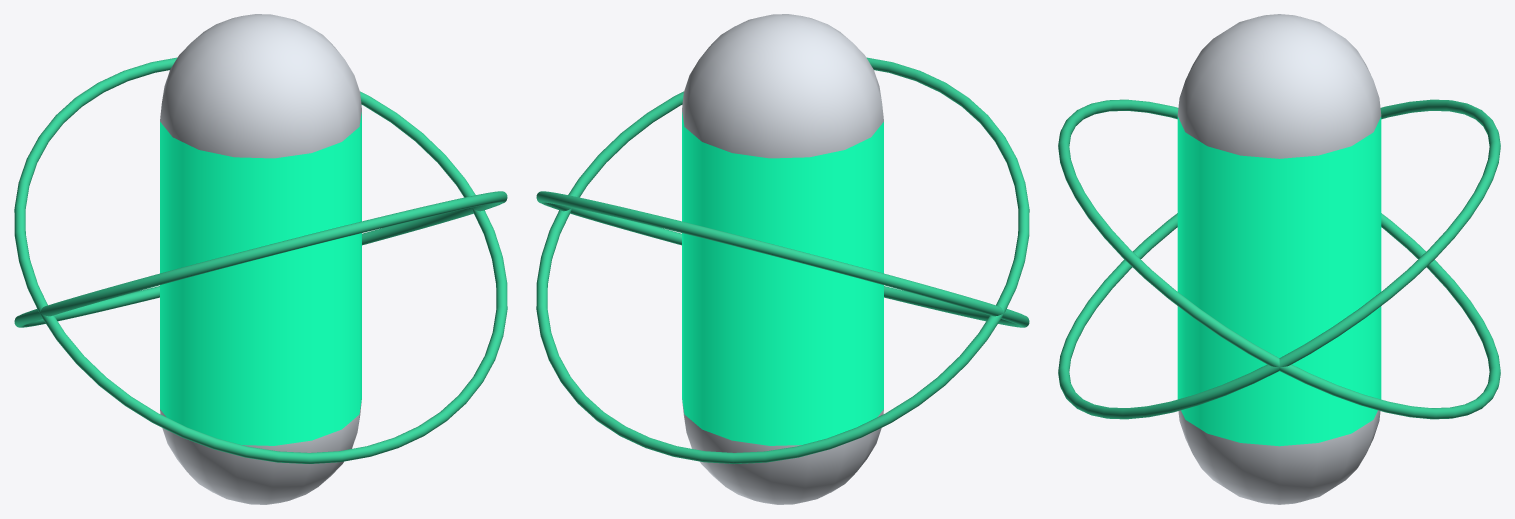
The model's file is boxem_biomedical_device_matrix.glb.
3 views of the same model, side by side, from view 1: azimuth 30°, elevation 25°; view 2: azimuth 150°, elevation 25°; view 3: azimuth 270°, elevation 25° (orthographic).
Visible parts, largest first — view 1: BiomedicalDeviceMatrix; view 2: BiomedicalDeviceMatrix; view 3: BiomedicalDeviceMatrix.
Part boxes in pixels (left/top/right/bottom): BiomedicalDeviceMatrix: left=14, top=14, right=507, bottom=504; BiomedicalDeviceMatrix: left=536, top=14, right=1029, bottom=504; BiomedicalDeviceMatrix: left=1058, top=14, right=1500, bottom=504.
Bounding box in the file's own units: 2.25 × 2.3 × 1.95.
